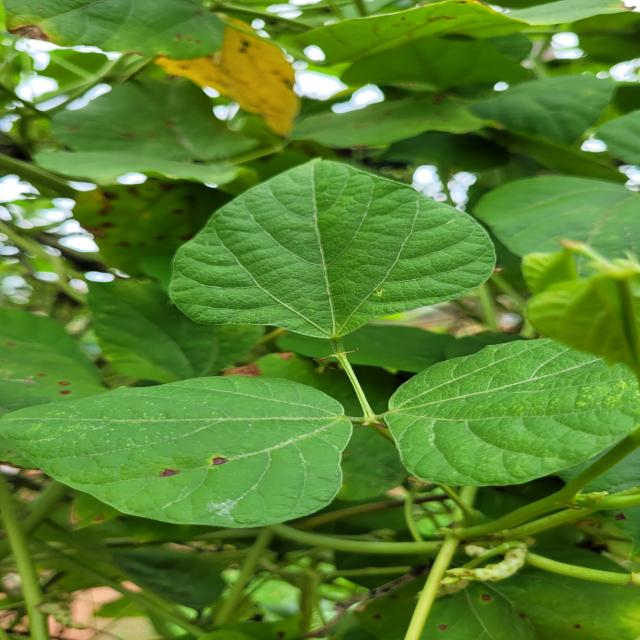Dolicos bean_healthy: (164, 154, 504, 335), (0, 379, 350, 527), (398, 336, 640, 483), (474, 165, 640, 262)
